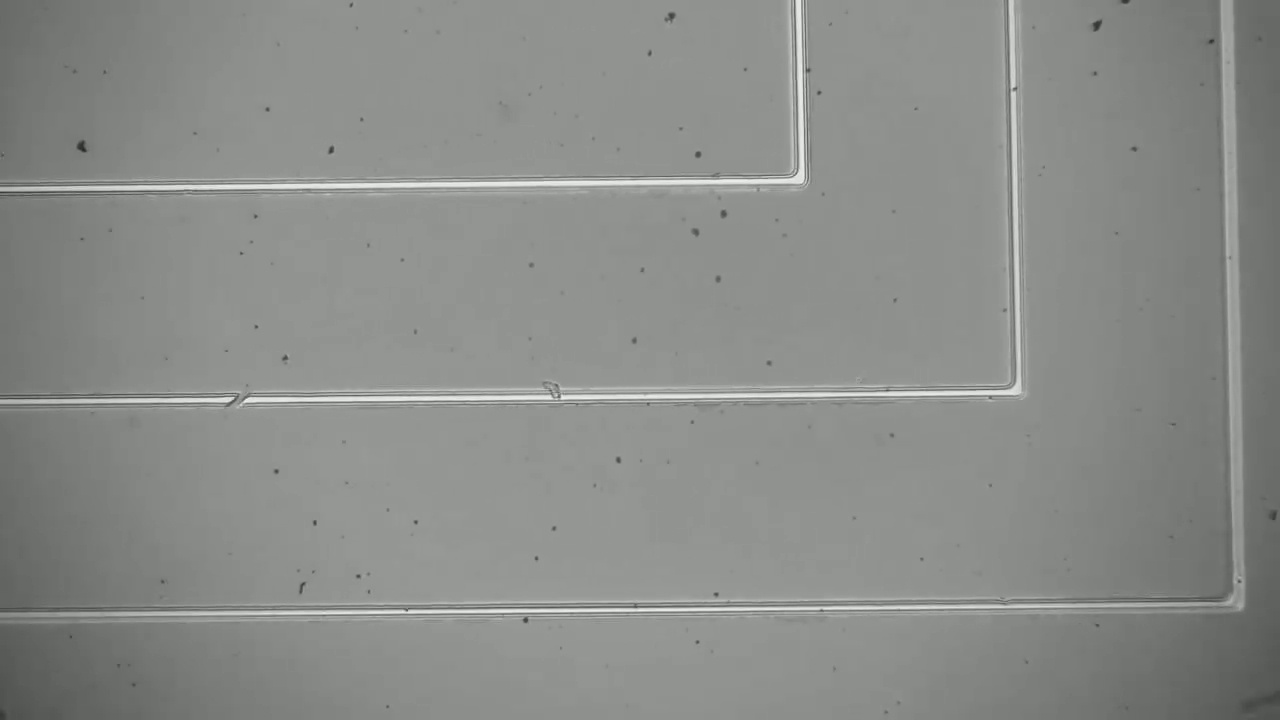open: (218, 380, 255, 419)
stains_enbedded: (531, 368, 569, 416)
